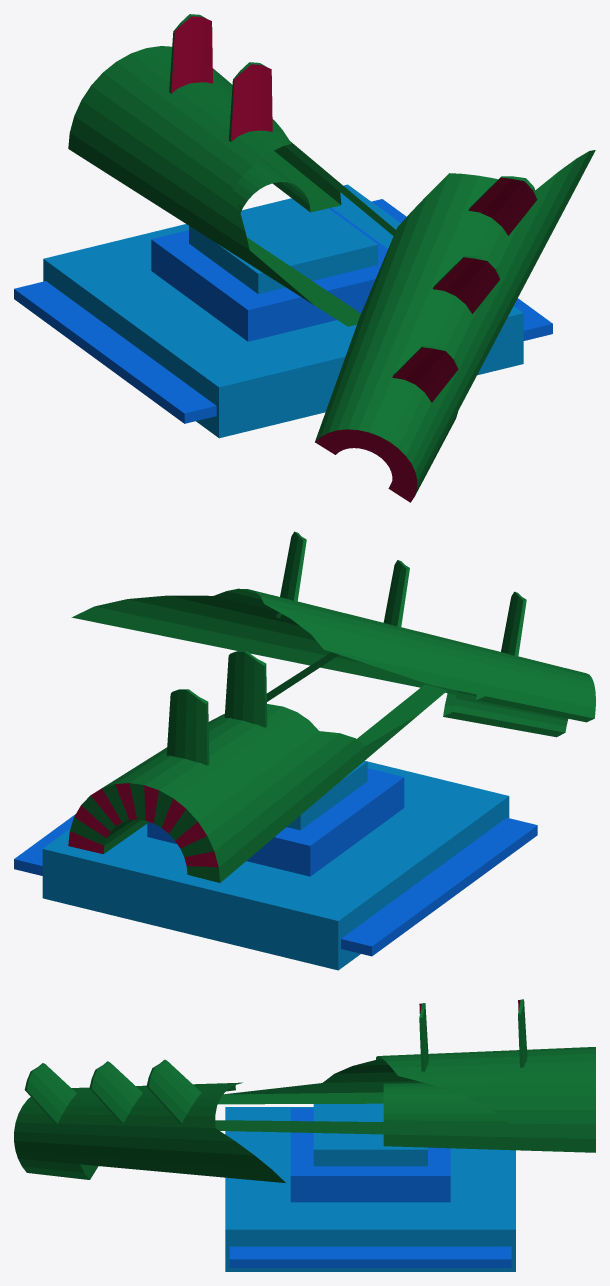
The model's file is Broken Canon.fbx.
3 renders of one model, top to bottom at view 1: azimuth 30°, elevation 25°; view 2: azimuth 150°, elevation 25°; view 3: azimuth 270°, elevation 25°, orthographic. The views are drawn at different scales.
Parts seen in each view (by area): view 1: Broken Canon; view 2: Broken Canon; view 3: Broken Canon.
Boxes of the visible parts, box(x1,y1,x2,y2) form: Broken Canon: box(14, 14, 595, 502); Broken Canon: box(14, 531, 595, 970); Broken Canon: box(14, 999, 595, 1271).
Bounding box in the file's own units: 285 × 156 × 390.
